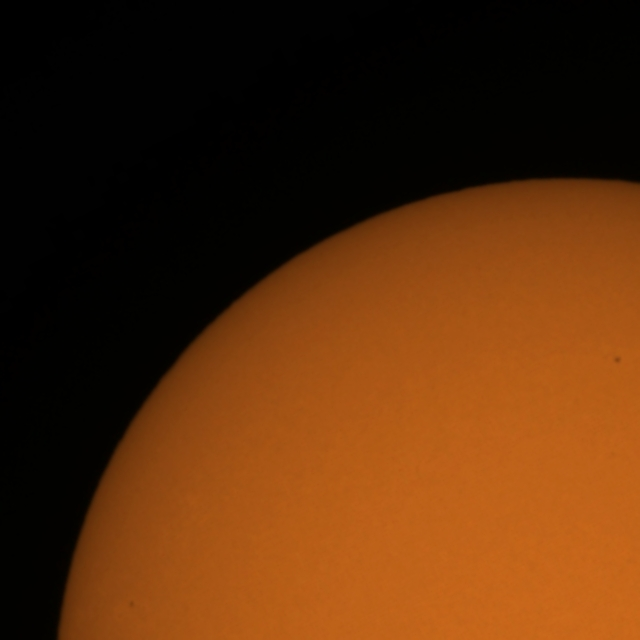sunspot: (612, 354, 623, 366), (127, 598, 136, 610)
